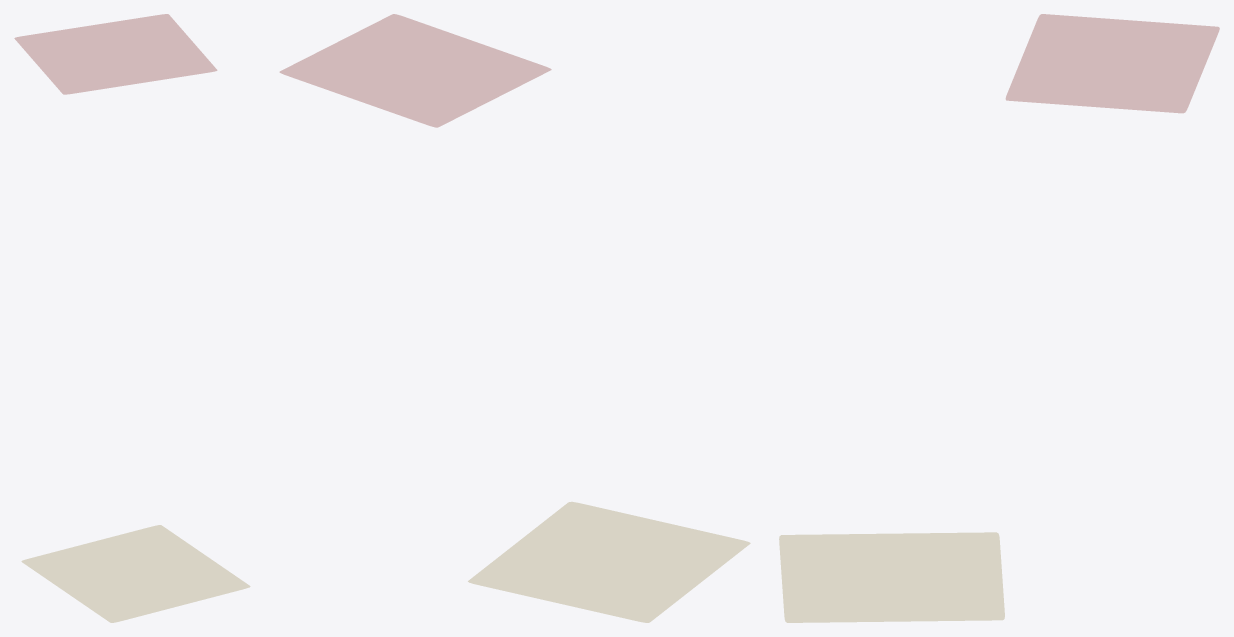
Rendered from scarves.glb.
3 renders of one model, left to right at view 1: azimuth 30°, elevation 25°; view 2: azimuth 150°, elevation 25°; view 3: azimuth 270°, elevation 25°, orthographic. The views are drawn at different scales.
Visible parts, largest first — view 1: Grid, Grid.001; view 2: Grid, Grid.001; view 3: Grid, Grid.001.
Boxes of the visible parts, left/top/right/bottom form: Grid: left=21, top=525, right=250, bottom=622; Grid.001: left=14, top=14, right=217, bottom=94; Grid: left=468, top=501, right=750, bottom=622; Grid.001: left=279, top=14, right=551, bottom=127; Grid: left=779, top=532, right=1004, bottom=622; Grid.001: left=1005, top=14, right=1219, bottom=113.
Size of the model in its own units: 0.2635 by 0.5 by 0.3596.
